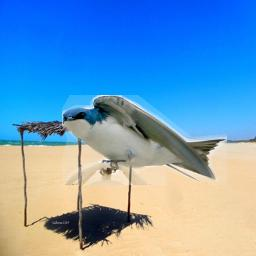Swallow: (62, 95, 227, 185)
